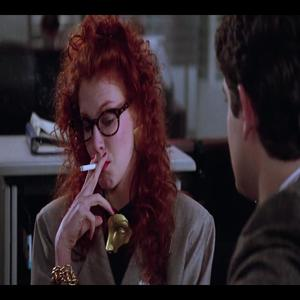cigarette: (79, 162, 98, 174)
